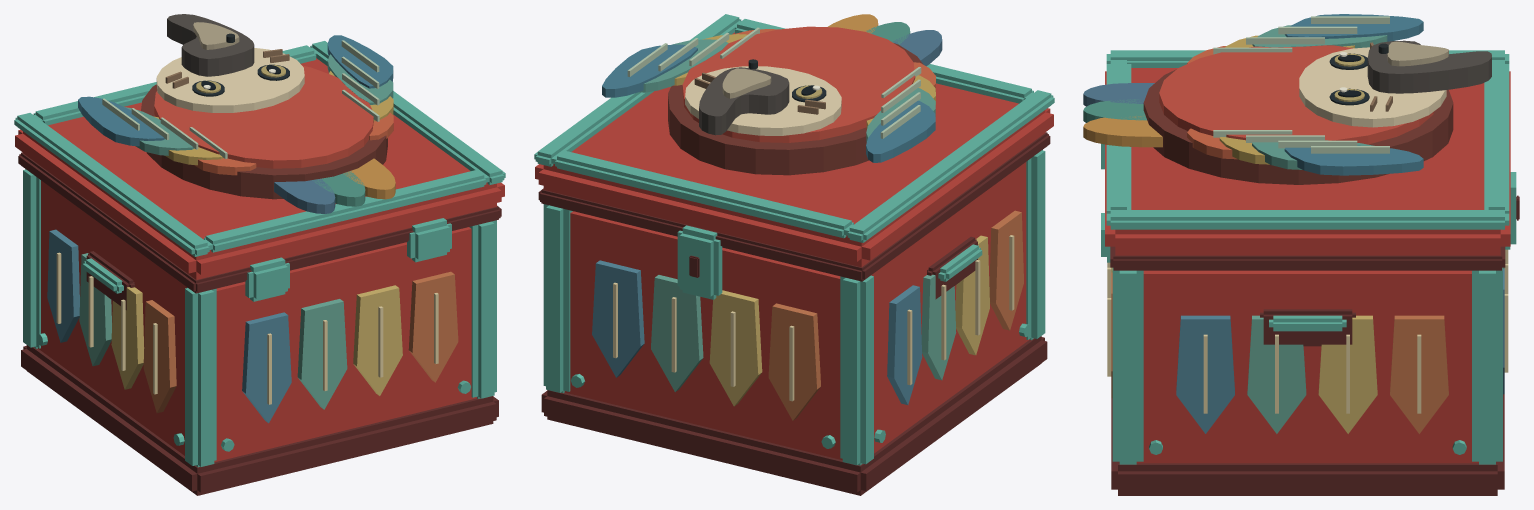
Rendered from crate_papagaio.fbx.
The picture shows the model from 3 angles, left to right: view 1: azimuth 30°, elevation 25°; view 2: azimuth 150°, elevation 25°; view 3: azimuth 270°, elevation 25°; orthographic projection. The views are drawn at different scales.
Parts seen in each view (by area): view 1: crate_papagaio_caixa; view 2: crate_papagaio_caixa; view 3: crate_papagaio_caixa.
Boxes of the visible parts, <box> form: crate_papagaio_caixa: <box>14,14,505,495</box>; crate_papagaio_caixa: <box>534,14,1054,495</box>; crate_papagaio_caixa: <box>1083,14,1519,495</box>.
Bounding box in the file's own units: 2.68 × 2.66 × 2.82.
Materials: 1 (1 with a texture image).
